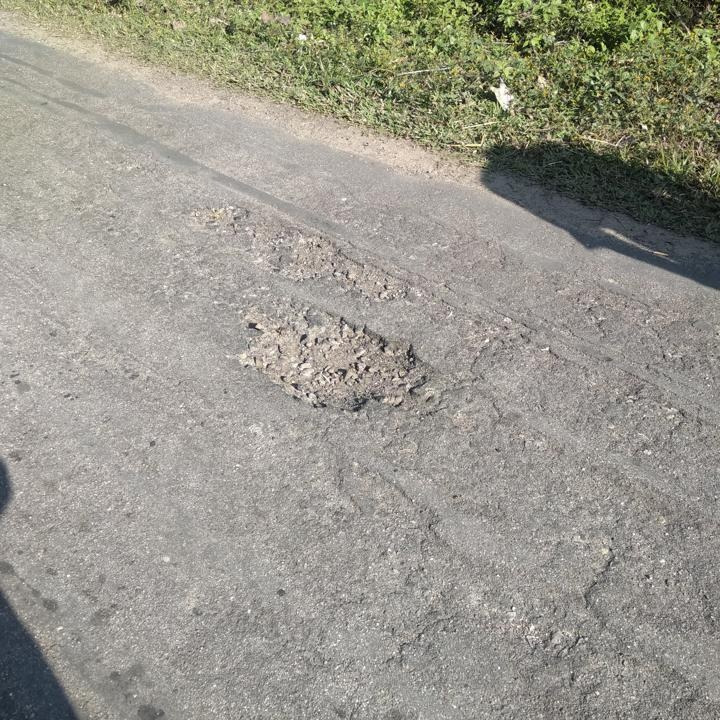pothole: (229, 299, 446, 414), (258, 227, 420, 304), (184, 197, 250, 236)
